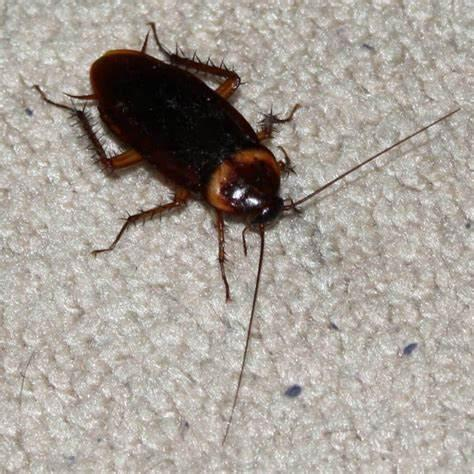cockroach: (83, 38, 289, 245)
